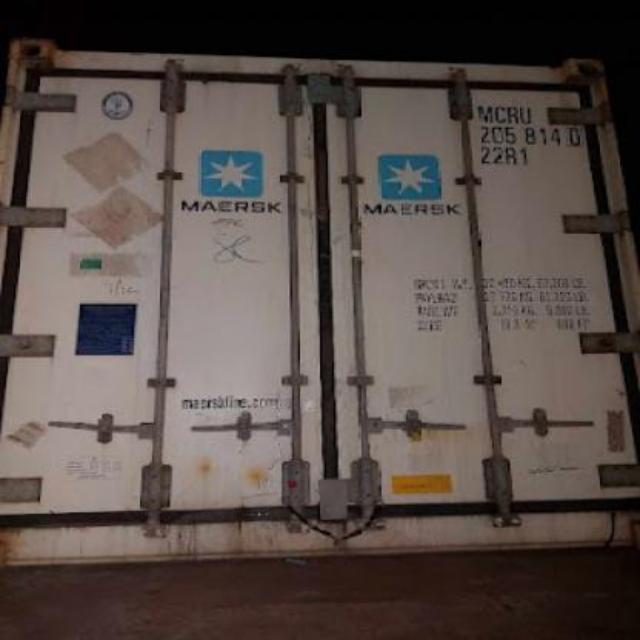0: (566, 127, 580, 145), (492, 126, 504, 144)
1: (540, 124, 550, 144)
2: (480, 124, 490, 142)
4: (550, 125, 564, 145)
5: (506, 126, 518, 144)
8: (526, 126, 540, 144)
C: (494, 105, 506, 123)
M: (476, 103, 492, 123)
R: (508, 107, 520, 123)
U: (520, 105, 532, 125)
